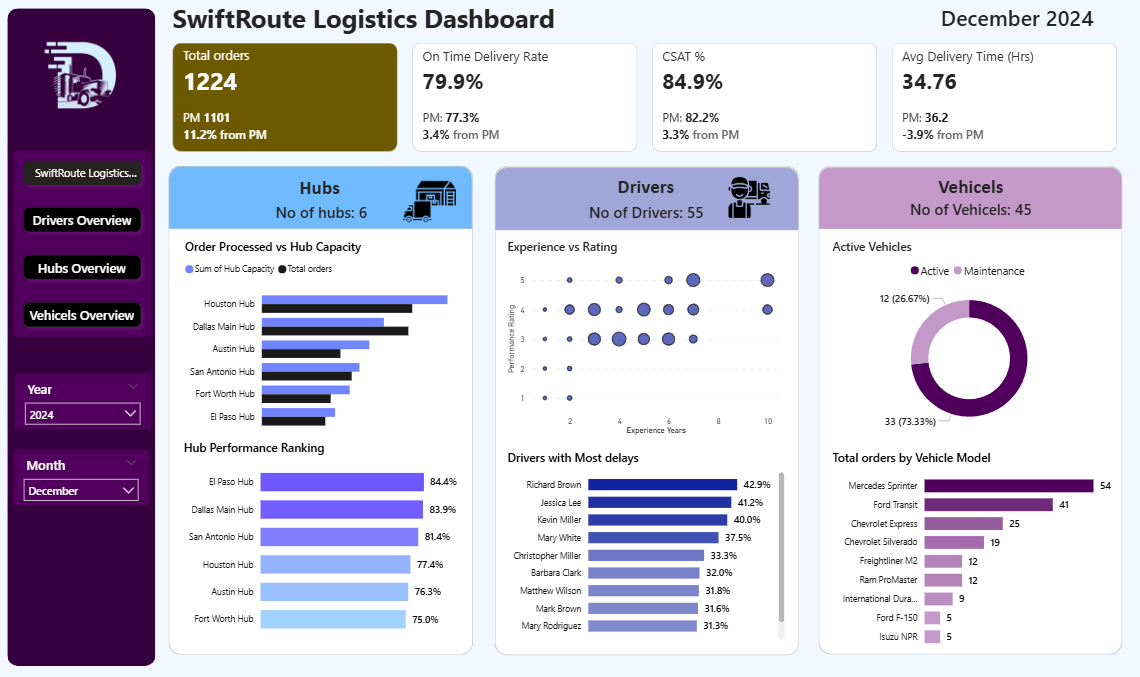

The page's visual inventory and layout, read from the dashboard file:
{"tool":"powerbi","page":{"name":"SwiftRoute Logistics Dashboard","canvas":[1450,850],"ordinal":0},"visuals":[{"type":"shape","box":[14,14,185,820.8],"z":0},{"type":"textbox","box":[214.5,0,499,62.2],"z":1000},{"type":"cardVisual","fields":{"Data":["Orders.Total orders","Orders.On Time Delivery Rate","Orders.CSAT %","Orders.Avg Delivery Time (Hrs)"]},"box":[215.2,46.8,1189.9,151.3],"z":2000},{"type":"slicer","fields":{"Values":["Date Table.Year"]},"box":[23.2,468.9,169.4,70],"z":3000},{"type":"slicer","fields":{"Values":["Date Table.Month"]},"box":[21.8,563.8,168.6,70.3],"z":4000},{"type":"shape","box":[214.5,209.9,380,610],"z":5000},{"type":"shape","box":[214.5,209.9,379.3,79.3],"z":6000},{"type":"textbox","box":[359.1,217.6,90.2,51.3],"z":7000},{"type":"cardVisual","fields":{"Data":["Hubs.No of Hubs"]},"box":[296.9,231.6,219.2,70],"z":8000},{"type":"clusteredBarChart","title":"Order Processed vs Hub Capacity","fields":{"Category":["Hubs.HubName"],"Y":["Sum(Hubs.Hub Capacity)","Orders.Total orders"]},"box":[230.1,301.6,349.8,250.3],"z":9000},{"type":"barChart","title":"Hub Performance Ranking","fields":{"Category":["Hubs.HubName"],"Y":["Orders.On Time Delivery Rate"]},"box":[229.5,551.5,350.8,255.5],"z":10000},{"type":"shape","box":[621.8,209.9,379.3,610.9],"z":11000},{"type":"shape","box":[621.8,211.4,379.3,79.3],"z":12000},{"type":"shape","box":[1026.1,210.5,379,609.8],"z":13000},{"type":"shape","box":[1026.1,212.1,379,78],"z":14000},{"type":"cardVisual","fields":{"Data":["Drivers.No of Driver"]},"box":[701.1,245.6,219.2,43.5],"z":15000},{"type":"textbox","box":[743,216.1,136.8,51.3],"z":16000},{"type":"scatterChart","title":"Experience vs Rating","fields":{"X":["Drivers.Experience Years"],"Y":["Drivers.Performance Rating"],"Size":["Sum(Drivers.Experience Years)1"]},"box":[632.7,301.6,356,250.3],"z":17000},{"type":"barChart","title":"Drivers with Most delays","fields":{"Y":["Orders.Delayed Delivery Rate"],"Category":["Drivers.DriverName"]},"box":[632.7,564.3,356,242.5],"z":18000},{"type":"textbox","box":[1147.2,216.1,136.8,51.3],"z":19000},{"type":"cardVisual","fields":{"Data":["Vehicles.No of Vehicels"]},"box":[1107.2,241.7,218.3,43.7],"z":20000},{"type":"donutChart","title":"Active Vehicles ","fields":{"Category":["Vehicles.Vehicle Status"],"Y":["CountNonNull(Vehicles.Vehicle ID)"]},"box":[1038.4,301.6,351.3,250.3],"z":21000},{"type":"barChart","fields":{"Category":["Vehicles.Vehicle Model"],"Y":["Orders.Total orders"]},"box":[1038.4,564.3,357.5,256.5],"z":22000},{"type":"image","box":[38.9,46.6,133.7,108.8],"z":23000},{"type":"cardVisual","fields":{"Data":["Orders.Year Month Title"]},"box":[1158.1,3.1,231.6,43.5],"z":24000},{"type":"image","box":[889.9,223.2,98.4,54.6],"z":25000},{"type":"image","box":[500.6,218.3,79.5,73.3],"z":26000},{"type":"pageNavigator","box":[21.8,191.8,171.5,232.4],"z":26001}]}

Visuals, with their boxes on the page's 1450x850 design canvas (x1, y1, x2, y2). These are canvas units, not pixel positions in the 1140x677 screenshot, which may show the page scaled, cropped or inside an application window:
shape: box=[14, 14, 199, 835]
textbox: box=[214, 0, 714, 62]
cardVisual - Orders.Total orders x Orders.On Time Delivery Rate: box=[215, 47, 1405, 198]
slicer - Date Table.Year: box=[23, 469, 193, 539]
slicer - Date Table.Month: box=[22, 564, 190, 634]
shape: box=[214, 210, 594, 820]
shape: box=[214, 210, 594, 289]
textbox: box=[359, 218, 449, 269]
cardVisual - Hubs.No of Hubs: box=[297, 232, 516, 302]
"Order Processed vs Hub Capacity" clusteredBarChart: box=[230, 302, 580, 552]
"Hub Performance Ranking" barChart: box=[230, 552, 580, 807]
shape: box=[622, 210, 1001, 821]
shape: box=[622, 211, 1001, 291]
shape: box=[1026, 210, 1405, 820]
shape: box=[1026, 212, 1405, 290]
cardVisual - Drivers.No of Driver: box=[701, 246, 920, 289]
textbox: box=[743, 216, 880, 267]
"Experience vs Rating" scatterChart: box=[633, 302, 989, 552]
"Drivers with Most delays" barChart: box=[633, 564, 989, 807]
textbox: box=[1147, 216, 1284, 267]
cardVisual - Vehicles.No of Vehicels: box=[1107, 242, 1326, 285]
"Active Vehicles " donutChart: box=[1038, 302, 1390, 552]
barChart - Vehicles.Vehicle Model x Orders.Total orders: box=[1038, 564, 1396, 821]
image: box=[39, 47, 173, 155]
cardVisual - Orders.Year Month Title: box=[1158, 3, 1390, 47]
image: box=[890, 223, 988, 278]
image: box=[501, 218, 580, 292]
pageNavigator: box=[22, 192, 193, 424]
